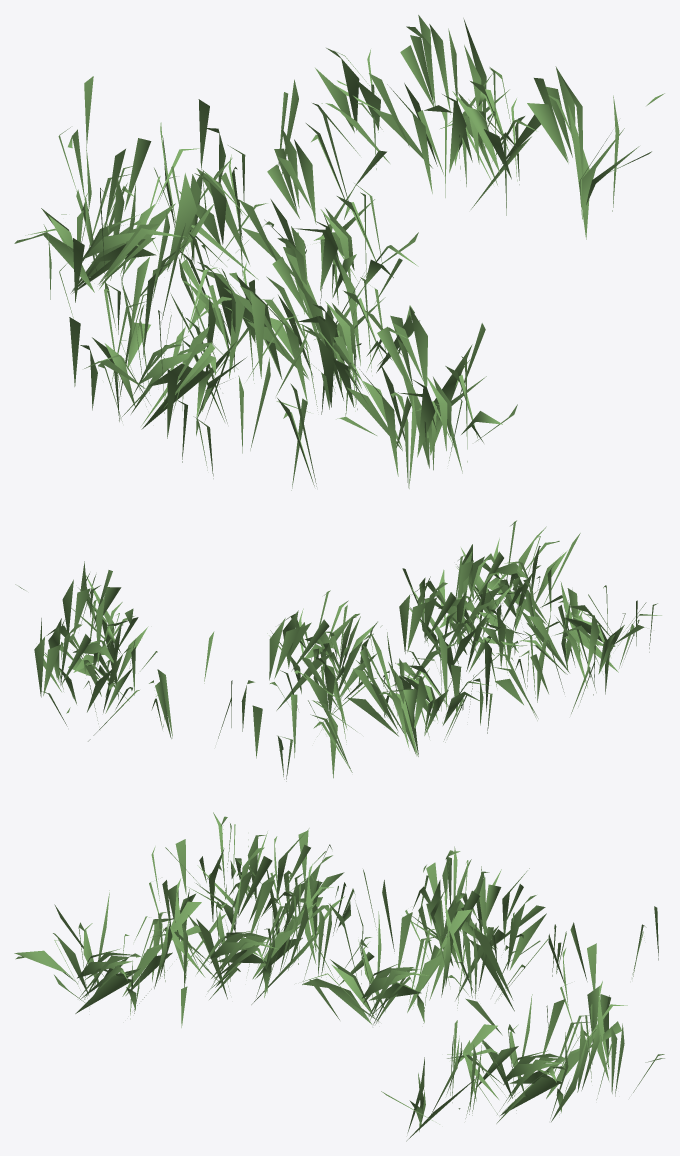
The model's file is grass_1.glb.
The picture shows the model from 3 angles, top to bottom: view 1: azimuth 30°, elevation 25°; view 2: azimuth 150°, elevation 25°; view 3: azimuth 270°, elevation 25°; orthographic projection. The views are drawn at different scales.
Visible parts, largest first — view 1: grass_1; view 2: grass_1; view 3: grass_1.
Boxes of the visible parts, bbox=[...] form: grass_1: bbox=[14, 15, 664, 490]; grass_1: bbox=[15, 520, 661, 781]; grass_1: bbox=[14, 812, 664, 1141].
Size of the model in its own units: 0.9513 by 0.2145 by 0.927.
